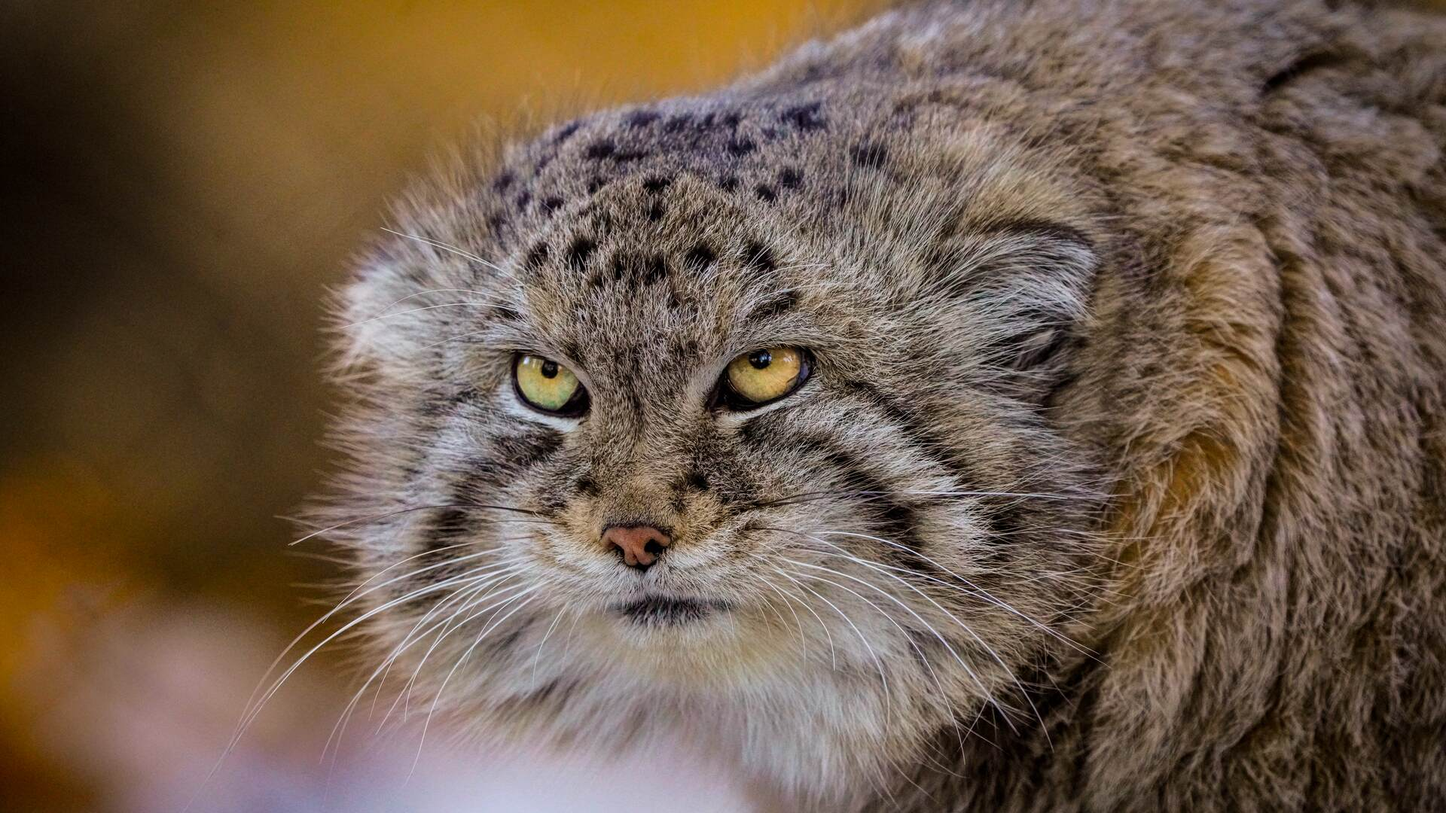Cat: (313, 35, 1432, 785)
